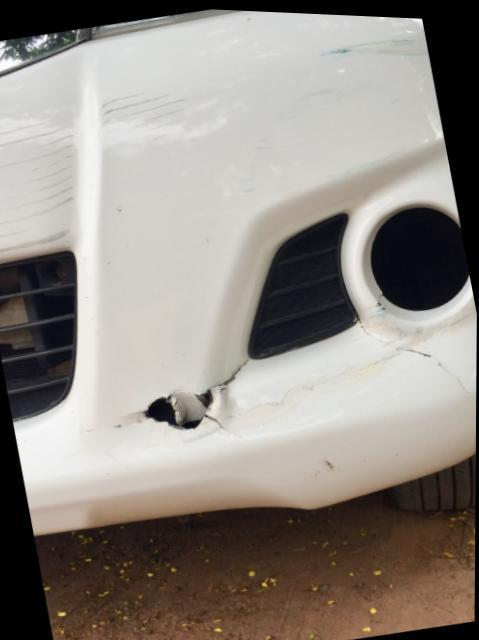crack: (358, 319, 477, 390), (144, 354, 250, 428)
scratch: (0, 77, 181, 258), (239, 33, 428, 202)
